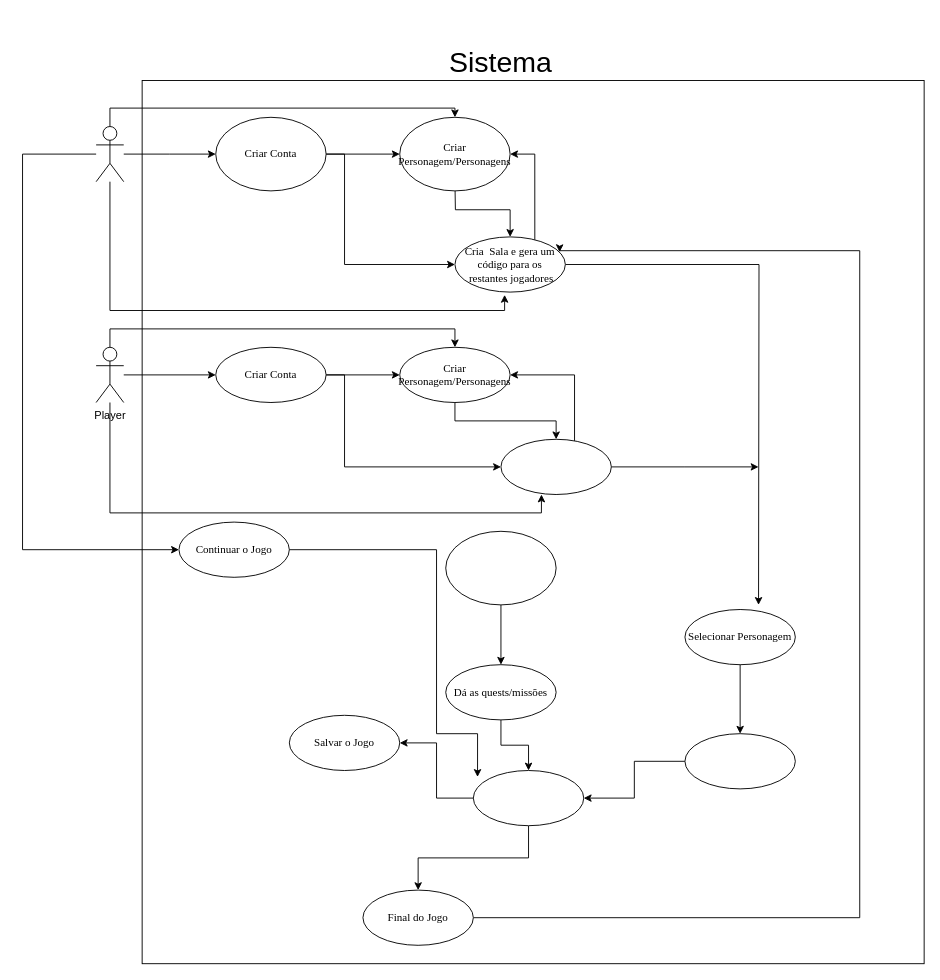
The diagram is 940 pixels wide and 980 high, and some of its shapes have lost their labels. The shapes that lost their labels are listed below. From the top down, each one's box as (x1, y1, x2, y2) in pixels, then its label:
(95, 126, 124, 182): Host
(500, 438, 611, 494): Coloca o código e enta na sala
(445, 530, 556, 605): IA Game Master
(684, 733, 795, 789): Começa o Jogo
(472, 770, 584, 826): Os player jogam o jogo com base na missão que a AI lhes der
